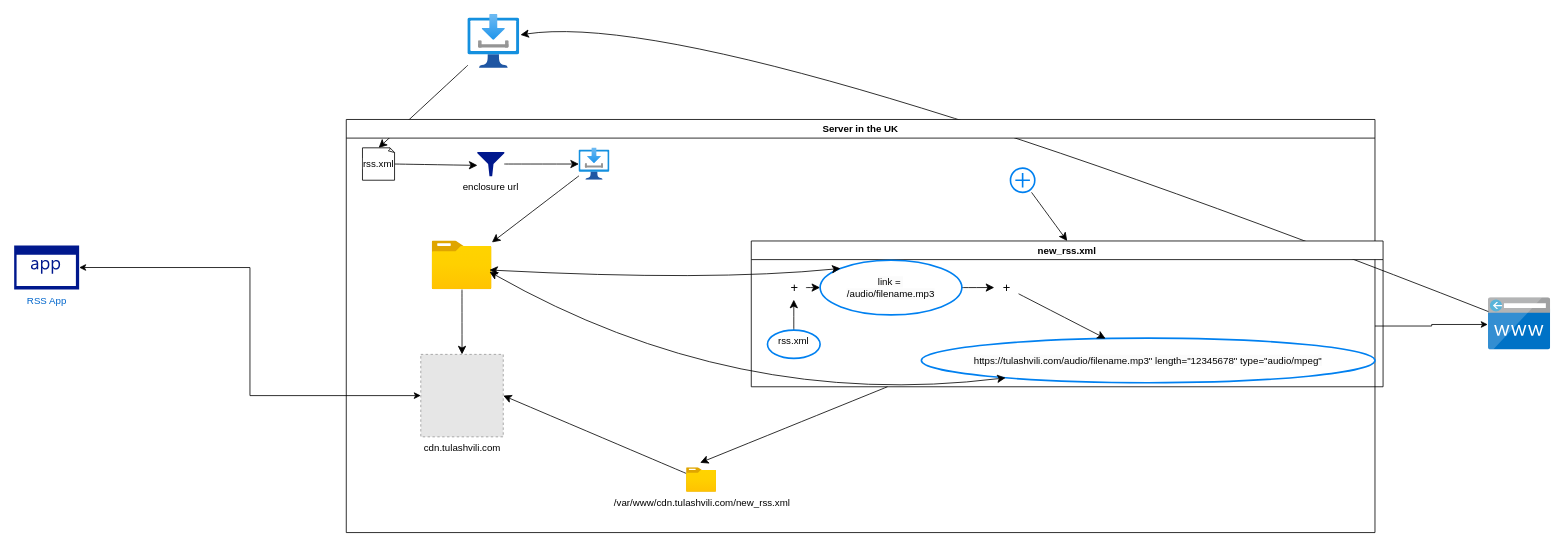
Some shapes in this 1564 by 547 pixel diagram are drawn without their labels. Grey dashed boxes stand in for pictures. Each missing label, with the centre of its shape:
/var/www/cdn.tulashvili.com/audio: (462,265)
Download mp3: (594,163)
Generate new RSS.xml: (1022,180)
Podcast Xml: (1519,323)
Xml: (493,41)
